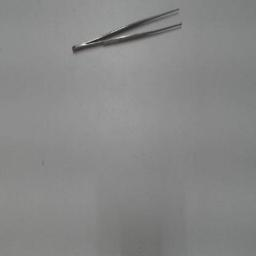Gillies Toothed Dissector: (66, 4, 186, 56)
